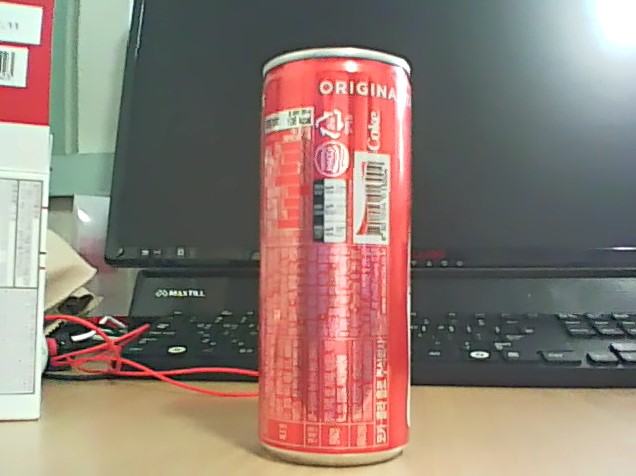Can: (249, 40, 417, 471)
